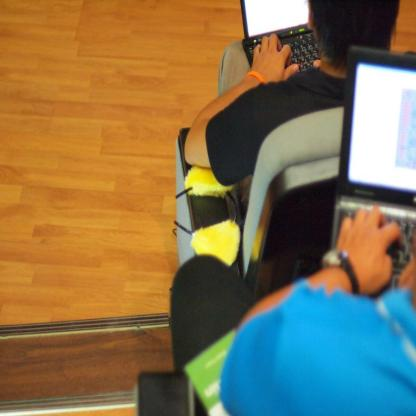board: (333, 46, 416, 298), (240, 0, 321, 70)
